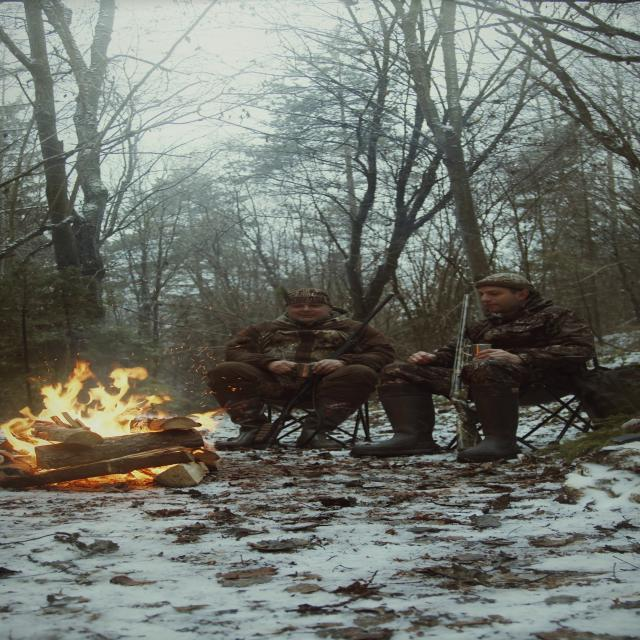Fire: (0, 354, 213, 479)
